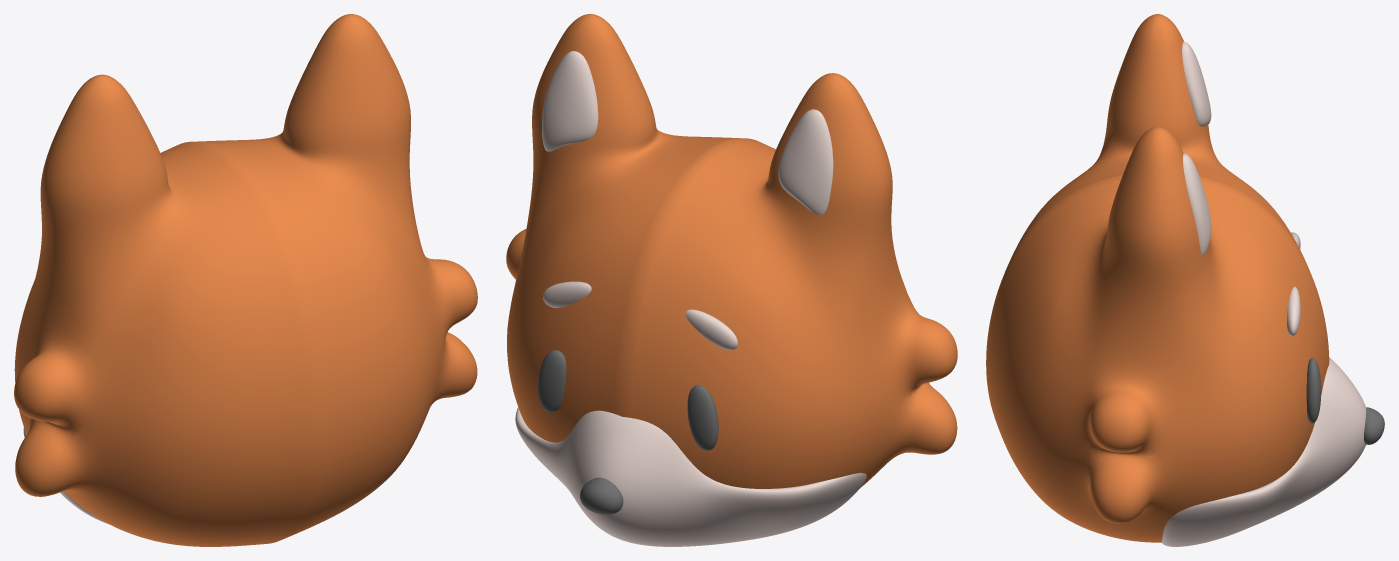
The model's file is fox.glb.
3 views of the same model, side by side, from view 1: azimuth 30°, elevation 25°; view 2: azimuth 150°, elevation 25°; view 3: azimuth 270°, elevation 25° (orthographic). The views are drawn at different scales.
Visible parts, largest first — view 1: FoxHead; view 2: FoxHead, FoxHead2, FoxHears, FoxEyes, FoxSourcils, FoxNose; view 3: FoxHead, FoxHead2, FoxHears, FoxEyes, FoxSourcils, FoxNose.
Boxes of the visible parts, bbox=[...] form: FoxHead: bbox=[14, 14, 477, 546]; FoxHead: bbox=[506, 14, 957, 488]; FoxHead2: bbox=[515, 407, 866, 546]; FoxHears: bbox=[542, 51, 833, 214]; FoxEyes: bbox=[538, 350, 718, 450]; FoxSourcils: bbox=[543, 281, 737, 350]; FoxNose: bbox=[580, 477, 623, 514]; FoxHead: bbox=[986, 14, 1329, 542]; FoxHead2: bbox=[1161, 357, 1366, 546]; FoxHears: bbox=[1182, 42, 1211, 255]; FoxEyes: bbox=[1306, 358, 1321, 423]; FoxSourcils: bbox=[1287, 232, 1300, 336]; FoxNose: bbox=[1364, 407, 1384, 444].
Size of the model in its own units: 2.33 by 2.38 by 1.91.
